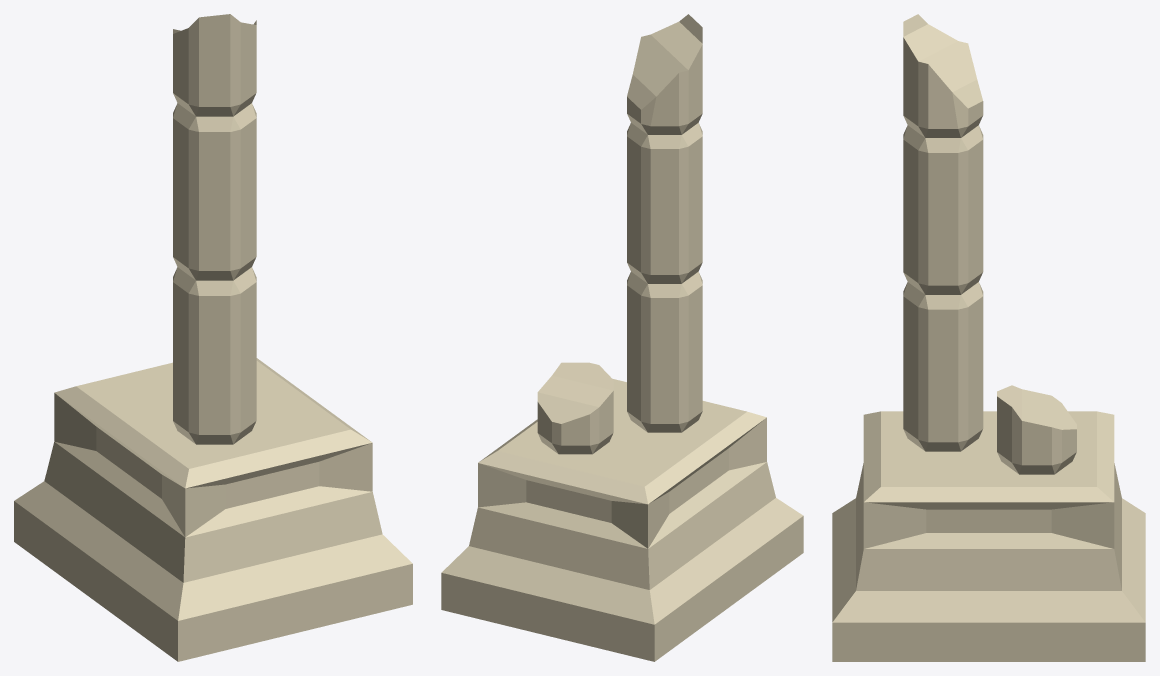
File: Destroy_Pillar_2.fbx
3 views of the same model, side by side, from view 1: azimuth 30°, elevation 25°; view 2: azimuth 150°, elevation 25°; view 3: azimuth 270°, elevation 25° (orthographic). The views are drawn at different scales.
Parts seen in each view (by area): view 1: Destroy_Pillar_2; view 2: Destroy_Pillar_2; view 3: Destroy_Pillar_2.
Part boxes in pixels (x1,y1,x2,y2): Destroy_Pillar_2: (14,14,412,661); Destroy_Pillar_2: (441,14,803,661); Destroy_Pillar_2: (832,14,1145,661).
Bounding box in the file's own units: 300 × 731 × 363.
